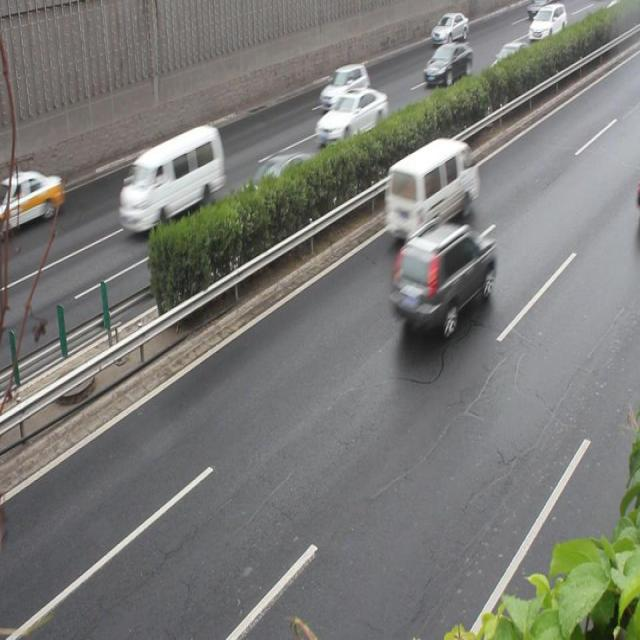car: (390, 222, 493, 334), (236, 153, 315, 220), (314, 88, 385, 142), (0, 166, 62, 227)
